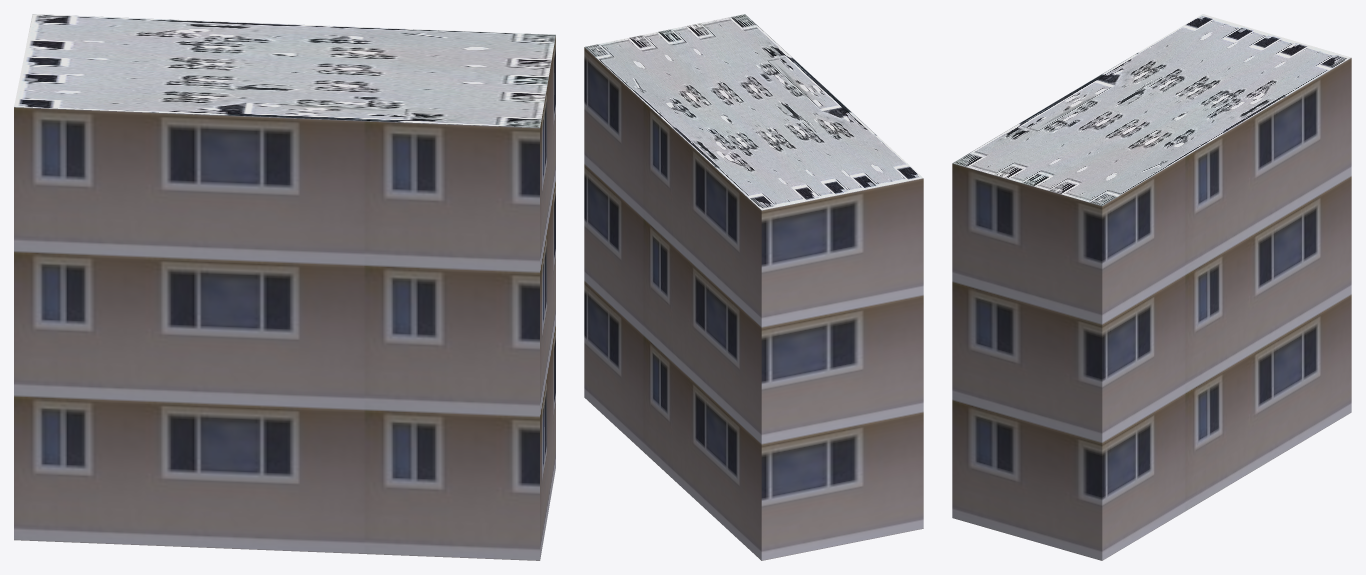
File: ResTex__2036.fbx
3 renders of one model, left to right at view 1: azimuth 30°, elevation 25°; view 2: azimuth 150°, elevation 25°; view 3: azimuth 270°, elevation 25°, orthographic. The views are drawn at different scales.
Visible parts, largest first — view 1: CityEngineMaterial_21_m, CityEngineMaterial_2_m; view 2: CityEngineMaterial_21_m, CityEngineMaterial_2_m; view 3: CityEngineMaterial_21_m, CityEngineMaterial_2_m.
Boxes of the visible parts, x1,y1,x2,y2 form: CityEngineMaterial_21_m: (14,36,555,560); CityEngineMaterial_2_m: (14,14,555,127); CityEngineMaterial_21_m: (584,47,923,560); CityEngineMaterial_2_m: (585,14,922,210); CityEngineMaterial_21_m: (952,58,1351,560); CityEngineMaterial_2_m: (953,14,1350,205).
Size of the model in its own units: 10.45 by 9 by 9.17.
Materials: 2 (2 with a texture image).
